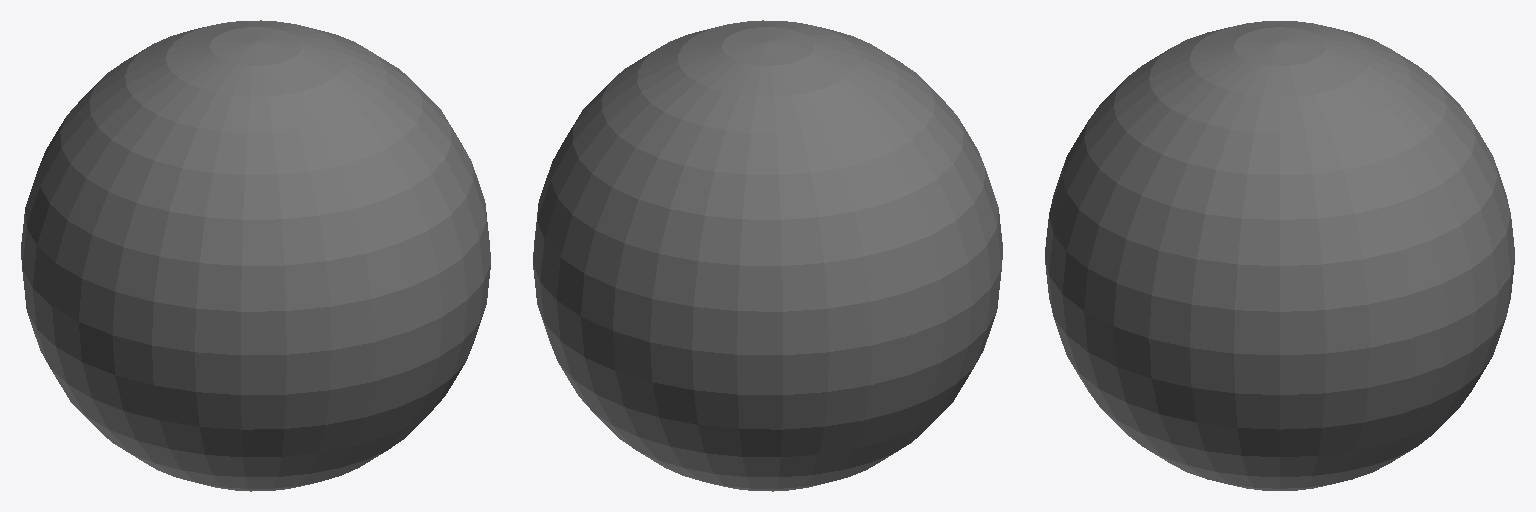
URDF robot description (object):
<?xml version="1.0"?>
<robot name="object">
  <link name="object">
    <visual>
      <origin xyz="0 0 0"/>
      <geometry>
        <sphere radius="0.007"/>
      </geometry>
      <material name="mat">
        <color rgba="0.5 0.5 0.5 1"/>
      </material>
    </visual>

    <collision>
      <origin xyz="0 0 0"/>
      <geometry>
        <sphere radius="0.001"/>
      </geometry>
    </collision>
  </link>
</robot>

--- Render facts (derived) ---
The picture shows the robot from 3 angles, left to right: view 1: azimuth 30°, elevation 25°; view 2: azimuth 150°, elevation 25°; view 3: azimuth 270°, elevation 25°; orthographic projection.
Model object with 1 links and 0 joints (none), rooted at object, posed every joint at zero.
Visible links, largest first — view 1: object; view 2: object; view 3: object.
Link boxes in pixels (x1,y1,x2,y2): object: (21, 20, 490, 491); object: (533, 20, 1002, 491); object: (1045, 21, 1514, 490).
Bounding box of the posed robot: 0.014 × 0.014 × 0.014 m (x, y, z).
Geometry: primitives only (box / cylinder / sphere), no mesh files.